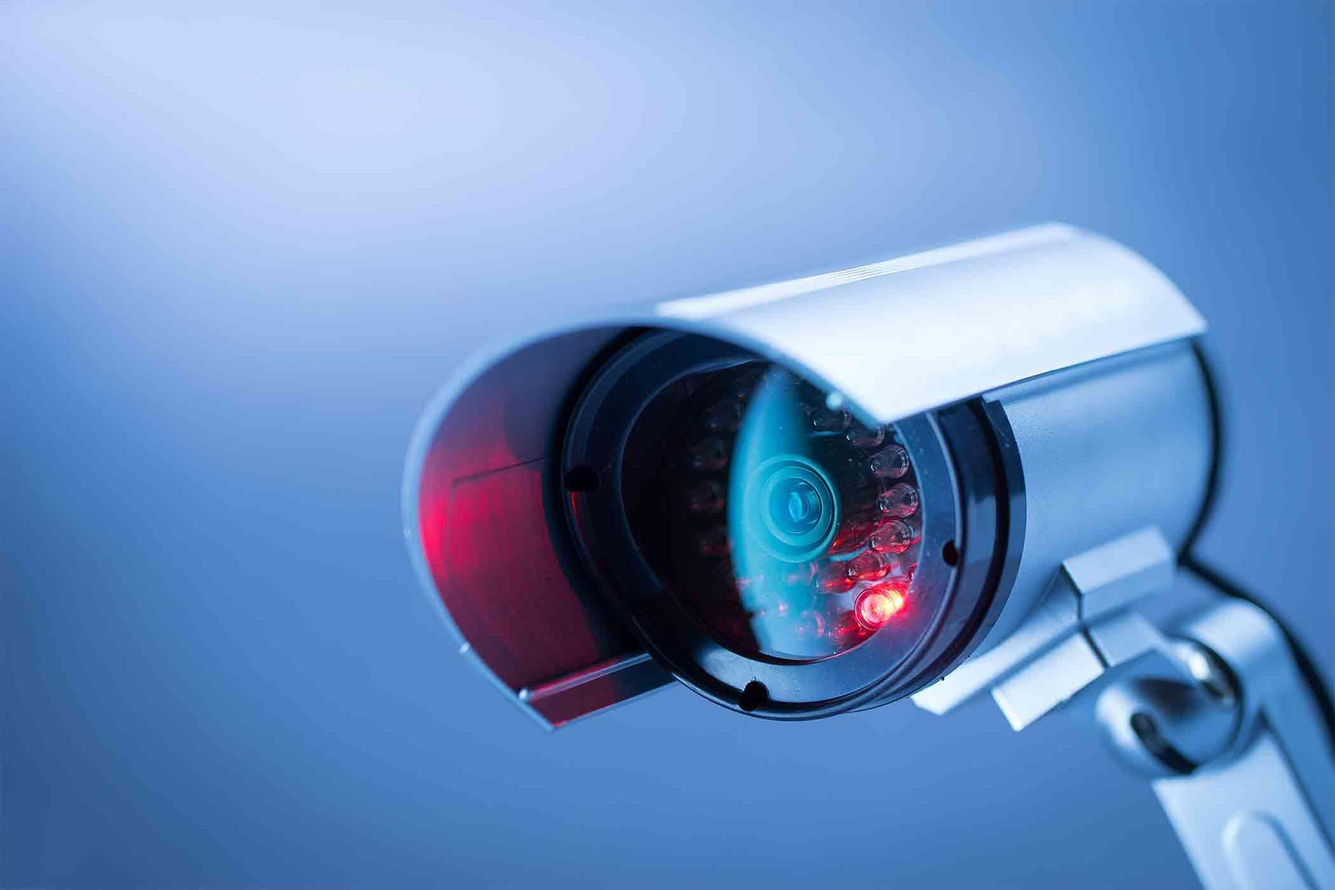CCTV: (404, 223, 1219, 727)
